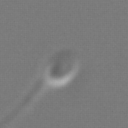normal: (1, 78, 45, 128)
